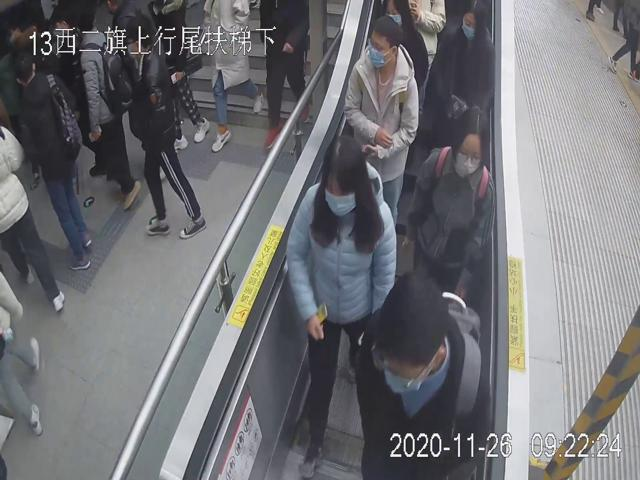person: (284, 133, 396, 480), (357, 269, 491, 480), (401, 105, 496, 304), (343, 15, 419, 232), (421, 2, 495, 153)
